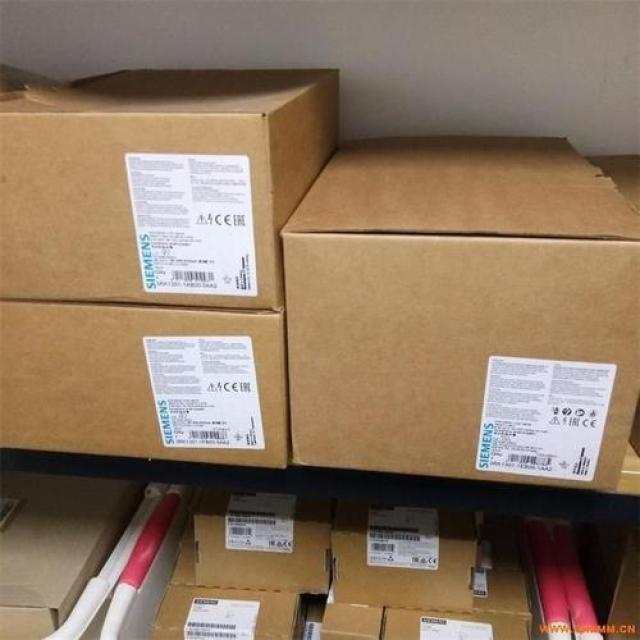box: (281, 137, 639, 492), (0, 69, 340, 312), (0, 301, 287, 467), (584, 152, 639, 212)
